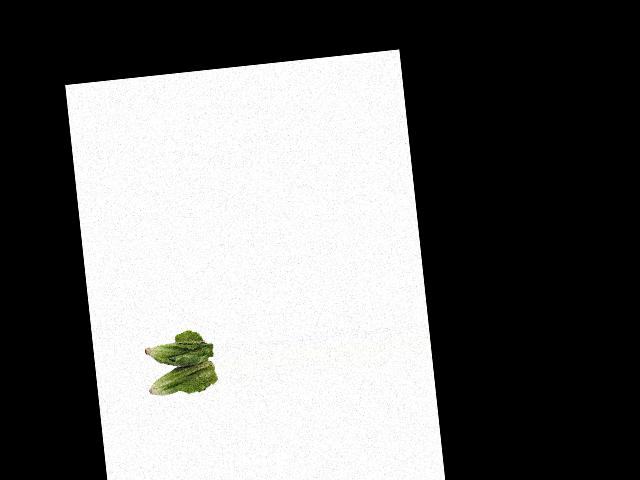lettuce: (143, 334, 219, 401)
